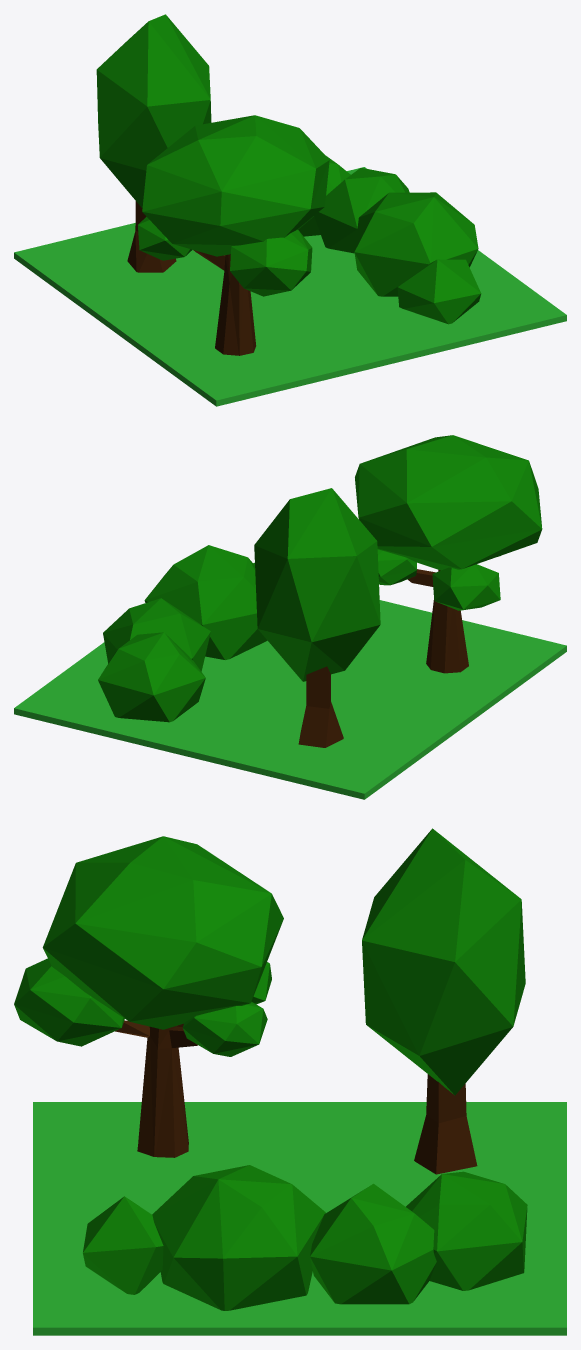
The model's file is bushes.FBX.
The picture shows the model from 3 angles, top to bottom: view 1: azimuth 30°, elevation 25°; view 2: azimuth 150°, elevation 25°; view 3: azimuth 270°, elevation 25°; orthographic projection. The views are drawn at different scales.
Parts seen in each view (by area): view 1: Soil, Leaf1 (×2), Bush3, Leaf4, Bush4, Bush2, Tree2, Leaf3, Tree1, Bush1; view 2: Soil, Leaf1 (×2), Bush3, Bush1, Bush2, Tree2, Leaf3, Tree1, Leaf2; view 3: Soil, Leaf1 (×2), Bush3, Bush2, Bush1, Tree2, Bush4, Leaf4, Tree1, Leaf2.
Part boxes in pixels (bbox=[...]): Soil: bbox=[14, 167, 566, 406]; Leaf1 (×2): bbox=[96, 14, 329, 256]; Bush3: bbox=[354, 192, 478, 296]; Leaf4: bbox=[230, 229, 312, 296]; Bush4: bbox=[397, 259, 481, 324]; Bush2: bbox=[314, 168, 409, 253]; Tree2: bbox=[193, 250, 256, 355]; Leaf3: bbox=[138, 216, 192, 260]; Tree1: bbox=[127, 201, 176, 272]; Bush1: bbox=[297, 155, 350, 236]; Soil: bbox=[14, 600, 566, 799]; Leaf1 (×2): bbox=[254, 435, 542, 681]; Bush3: bbox=[144, 545, 267, 659]; Bush1: bbox=[98, 632, 205, 722]; Bush2: bbox=[103, 598, 210, 671]; Tree2: bbox=[407, 569, 468, 673]; Leaf3: bbox=[432, 564, 500, 610]; Tree1: bbox=[298, 666, 343, 747]; Leaf2: bbox=[377, 549, 416, 585]; Soil: bbox=[33, 1102, 566, 1335]; Leaf1 (×2): bbox=[42, 828, 525, 1095]; Bush3: bbox=[152, 1165, 325, 1310]; Bush2: bbox=[310, 1183, 436, 1304]; Bush1: bbox=[406, 1171, 527, 1290]; Tree2: bbox=[115, 1020, 197, 1157]; Bush4: bbox=[83, 1196, 163, 1294]; Leaf4: bbox=[14, 958, 124, 1046]; Tree1: bbox=[414, 1074, 477, 1174]; Leaf2: bbox=[182, 1002, 267, 1056].
Bounding box in the file's own units: 253 × 164 × 245.
